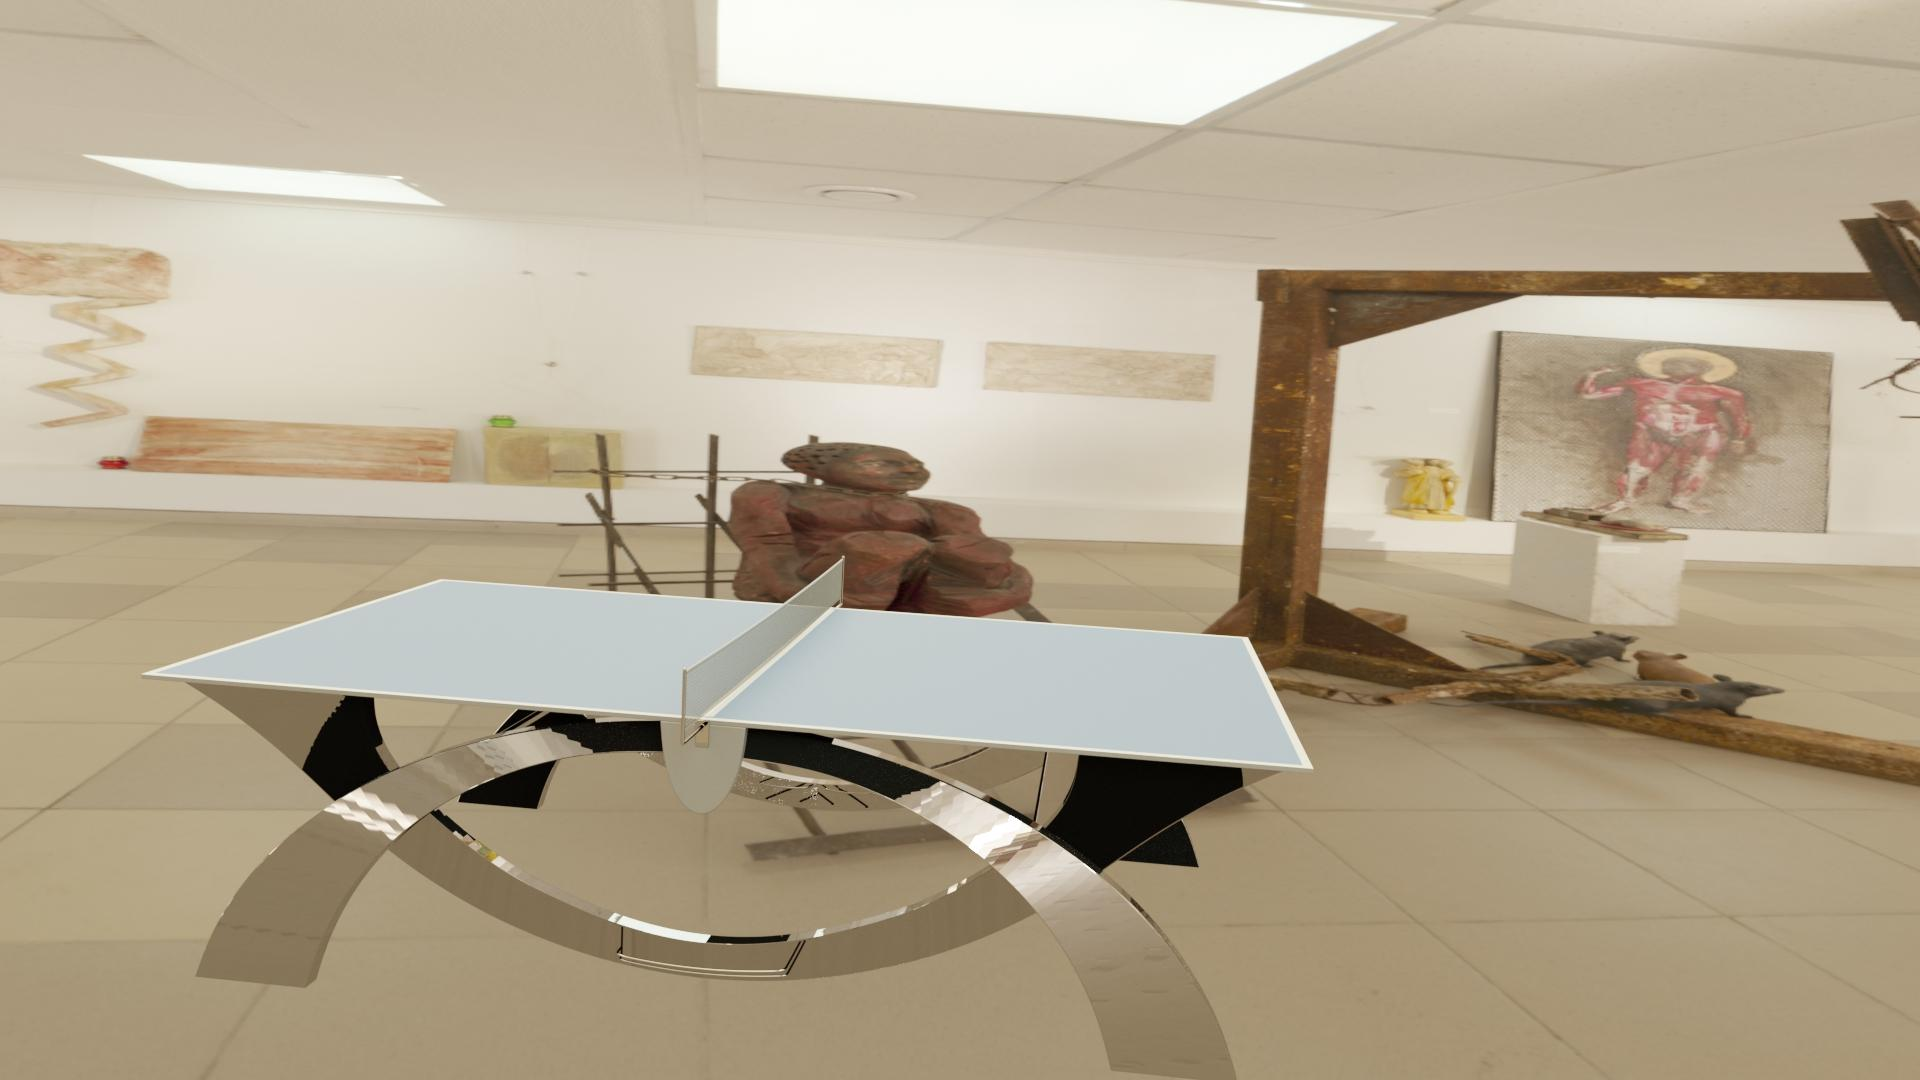table: (154, 580, 1303, 765)
